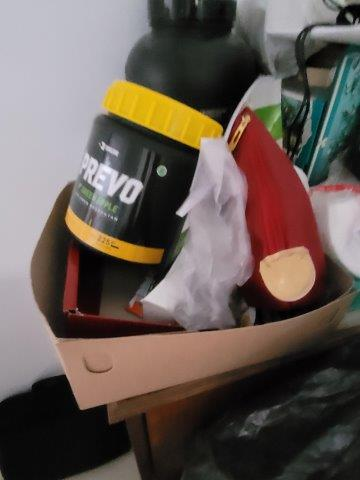plastik: (151, 144, 253, 328)
